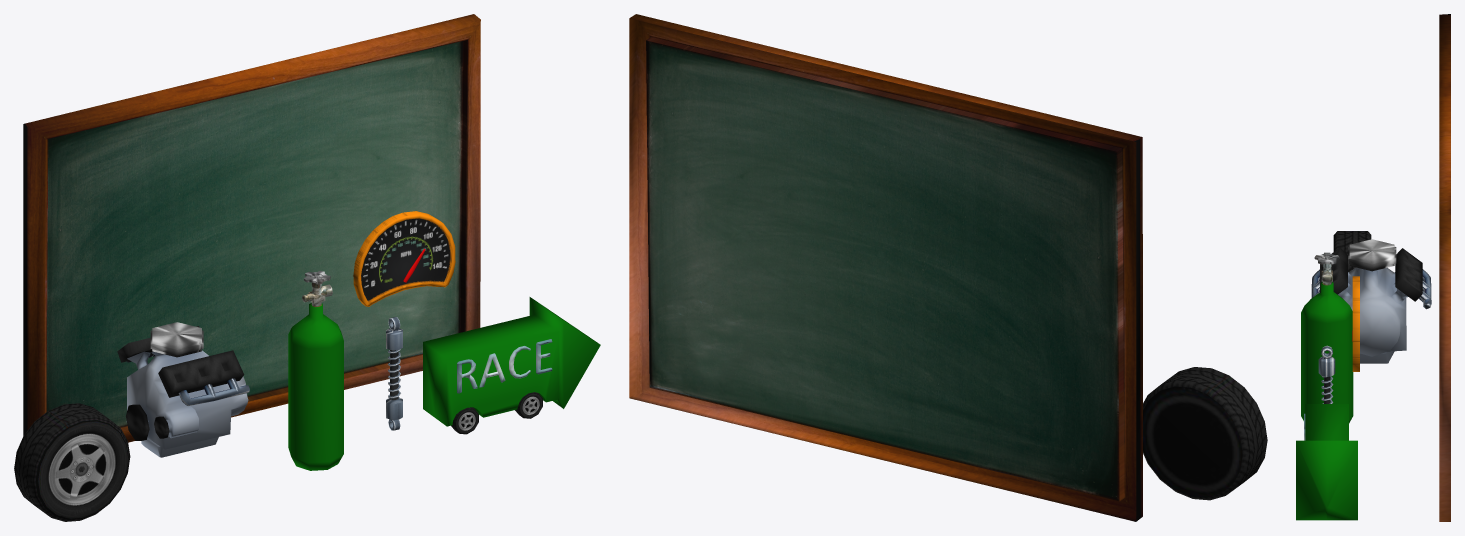
The model's file is Menu.fbx.
The picture shows the model from 3 angles, left to right: view 1: azimuth 30°, elevation 25°; view 2: azimuth 150°, elevation 25°; view 3: azimuth 270°, elevation 25°; orthographic projection. The views are drawn at different scales.
Visible parts, largest first — view 1: board, race, engine, ties, nitro, speedometer, shocks; view 2: board, ties; view 3: engine, race, board, nitro, speedometer, shocks, ties.
Part boxes in pixels (bbox=[...]): board: bbox=[23, 14, 480, 442]; race: bbox=[423, 297, 600, 434]; engine: bbox=[117, 322, 249, 457]; ties: bbox=[14, 403, 130, 521]; nitro: bbox=[288, 271, 343, 470]; speedometer: bbox=[353, 211, 455, 306]; shocks: bbox=[386, 317, 402, 430]; board: bbox=[629, 14, 1142, 521]; ties: bbox=[1143, 367, 1267, 500]; engine: bbox=[1311, 239, 1431, 363]; race: bbox=[1296, 404, 1357, 520]; board: bbox=[1439, 14, 1450, 521]; nitro: bbox=[1301, 252, 1353, 423]; speedometer: bbox=[1352, 276, 1359, 371]; shocks: bbox=[1318, 345, 1335, 403]; ties: bbox=[1333, 231, 1371, 272].
Size of the model in its own units: 24.55 by 14.58 by 6.42.
